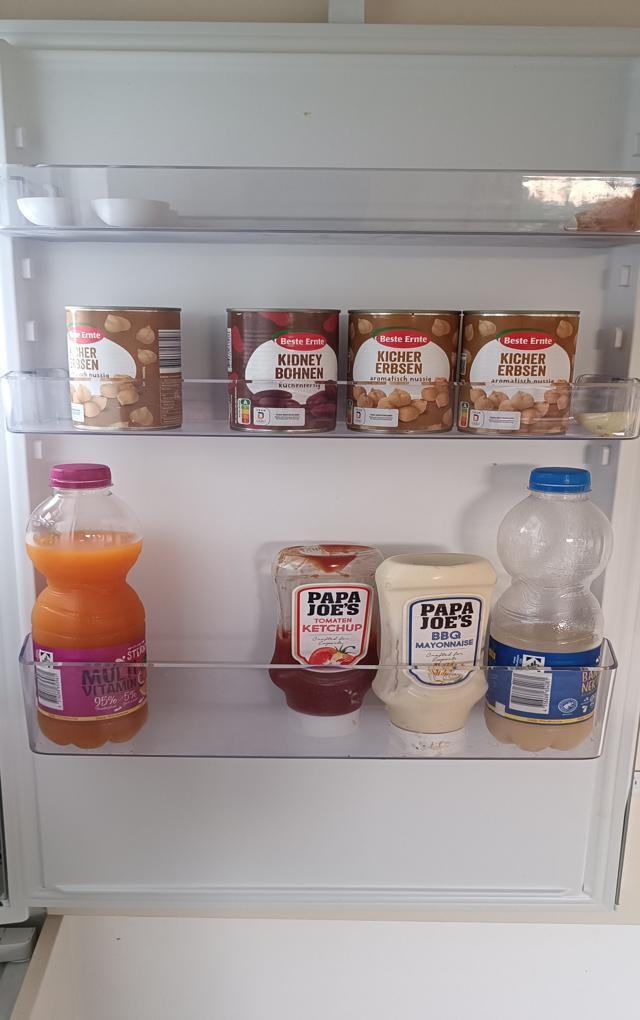bananajuice: (490, 465, 609, 754)
chickpeas: (66, 303, 185, 427), (461, 311, 576, 438), (348, 309, 458, 433)
kidneybeans: (225, 308, 338, 431)
mayoniasie: (371, 550, 494, 752)
orangejuice: (25, 461, 149, 750)
tomatoketchup: (267, 543, 385, 740)
